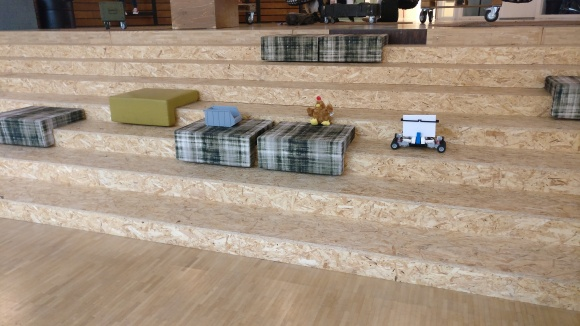car: (390, 113, 448, 153)
chicken: (306, 94, 335, 127)
tray: (203, 104, 241, 127)
